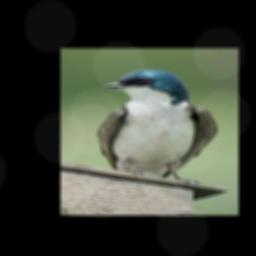Swallow: (95, 68, 218, 186)
